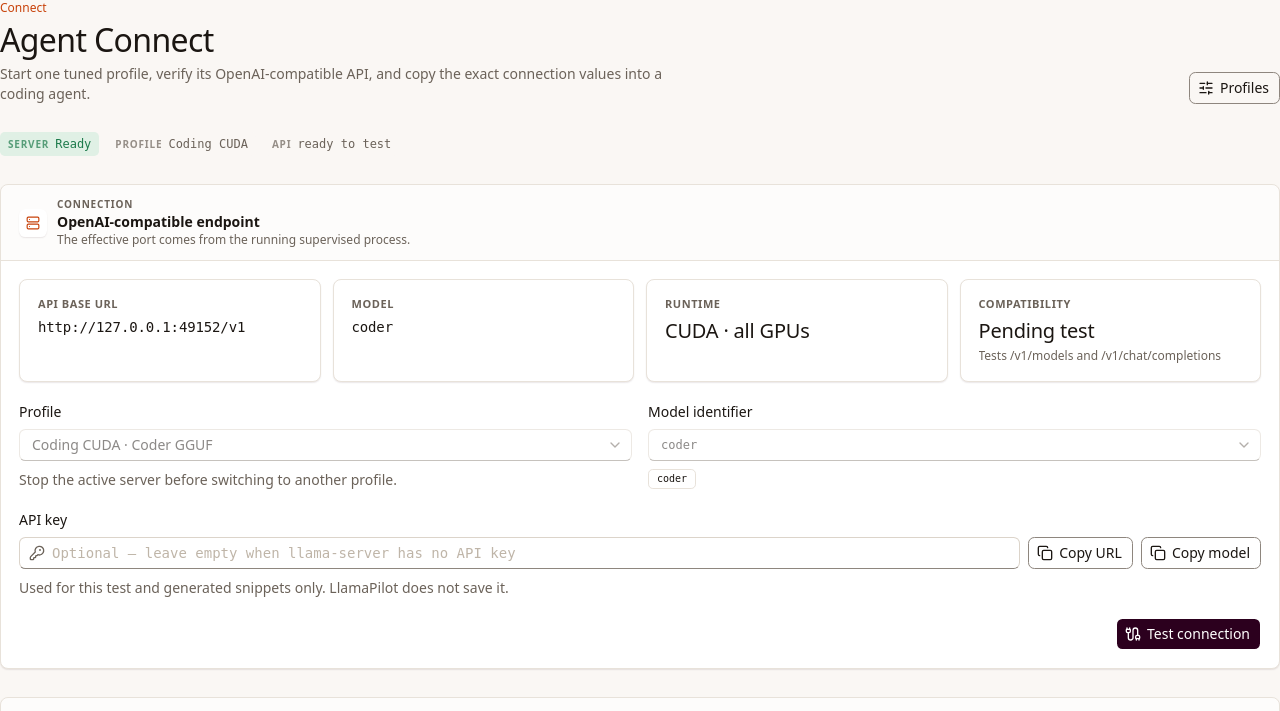
it: Agent Connect page › uses the effective server port and verifies models plus chat
Check: the text "http://127.0.0.1:49152/v1" is shown, box [38,318,245,334]
Click the button "Test connection" at (1188, 634), box [1116,618,1261,650]
(page scrolled)
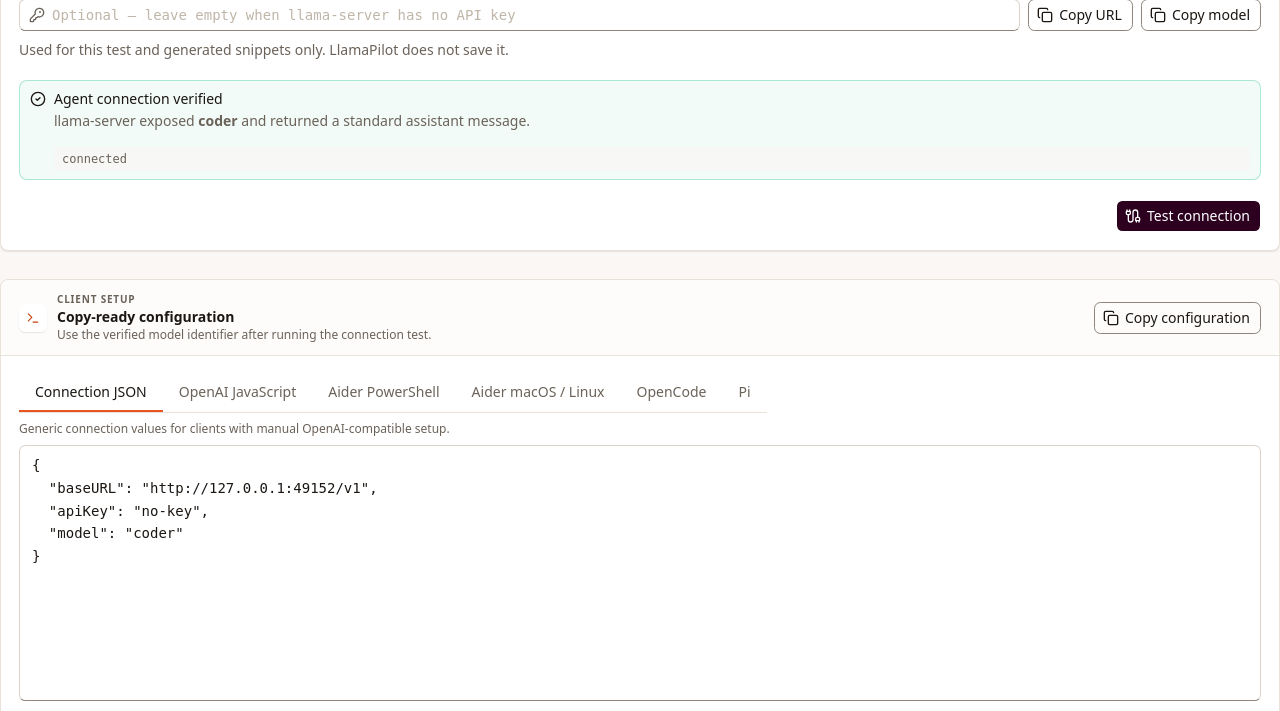
Check: the text "Agent connection verified" is shown, box [54,89,223,108]
Check: the text "connected" is shown, box [54,147,1250,171]
Check: the tab "OpenCode" is shown, box [620,374,722,412]
